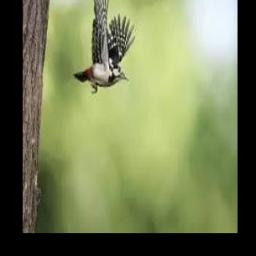Woodpecker: (74, 0, 136, 94)
